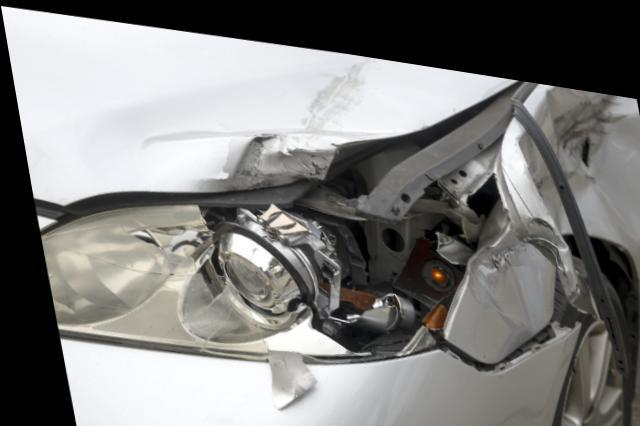dent: (105, 39, 407, 180), (547, 68, 640, 222), (464, 205, 544, 315)
dislocated part: (1, 6, 535, 235), (367, 287, 580, 426)
lamp broken: (32, 189, 459, 350)
